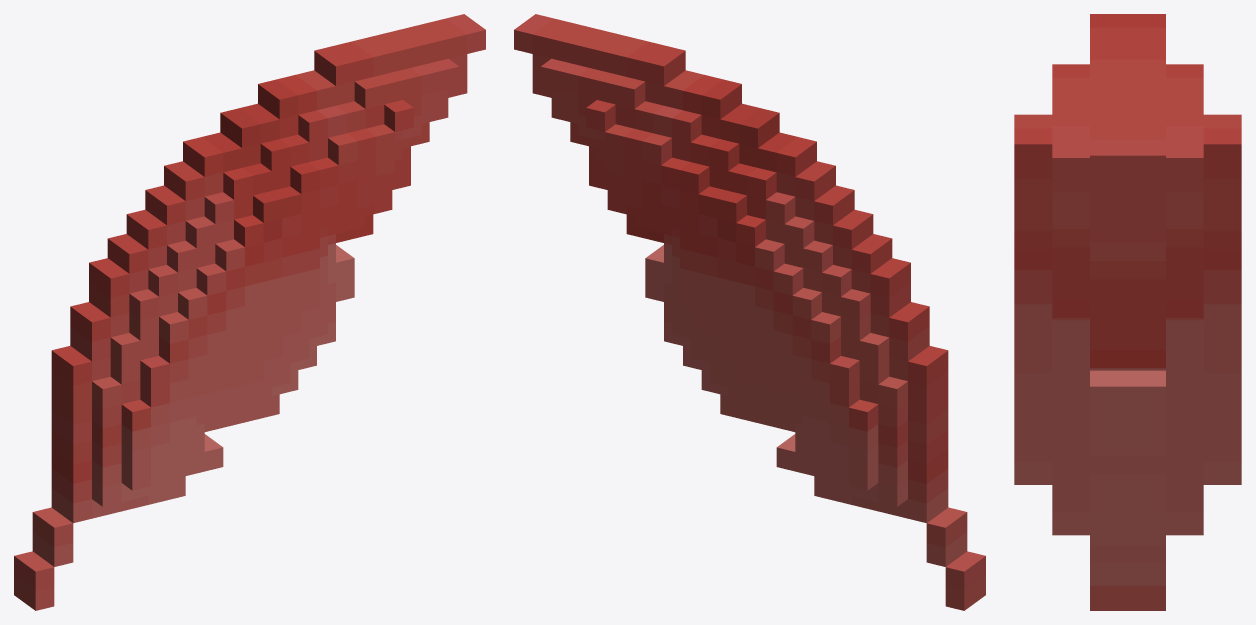
Rendered from feather-red.glb.
3 views of the same model, side by side, from view 1: azimuth 30°, elevation 25°; view 2: azimuth 150°, elevation 25°; view 3: azimuth 270°, elevation 25° (orthographic). The views are drawn at different scales.
Visible parts, largest first — view 1: prop; view 2: prop; view 3: prop.
Part boxes in pixels (x1,y1,x2,y2): prop: [14, 14, 485, 610]; prop: [514, 14, 985, 610]; prop: [1014, 14, 1241, 610].
Size of the model in its own units: 16 by 16 by 4.
